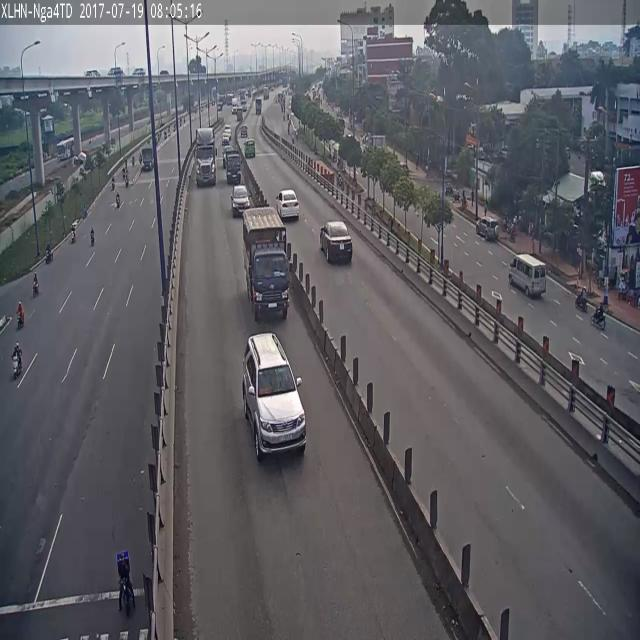car: (117, 552, 134, 616), (11, 342, 22, 379), (591, 304, 606, 330), (575, 288, 587, 311), (16, 302, 24, 330), (32, 272, 39, 297), (46, 242, 52, 263), (71, 227, 76, 243), (90, 228, 94, 245), (116, 191, 120, 208), (111, 176, 115, 191)
traffic-light: (242, 332, 306, 460), (508, 254, 545, 296), (320, 220, 352, 261), (231, 184, 250, 216), (278, 189, 298, 219), (476, 216, 498, 240), (244, 139, 256, 157)
truck: (242, 207, 289, 320), (196, 128, 216, 186), (226, 150, 241, 185)
